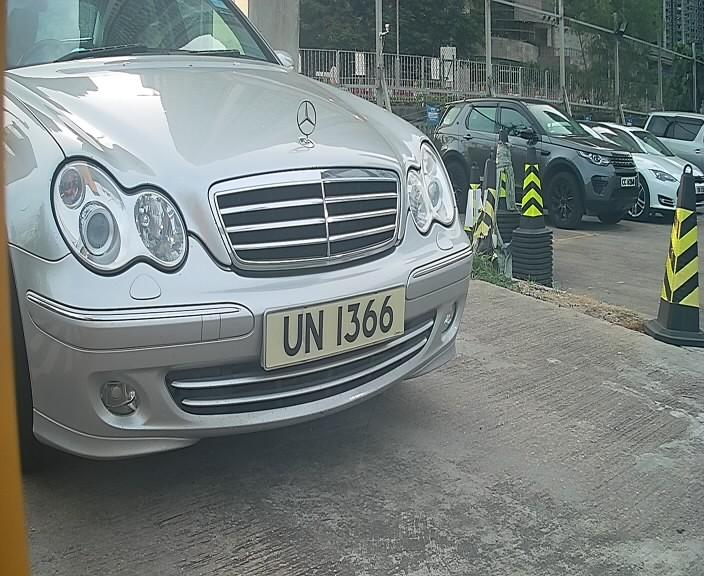License Plate: (258, 283, 412, 379)
